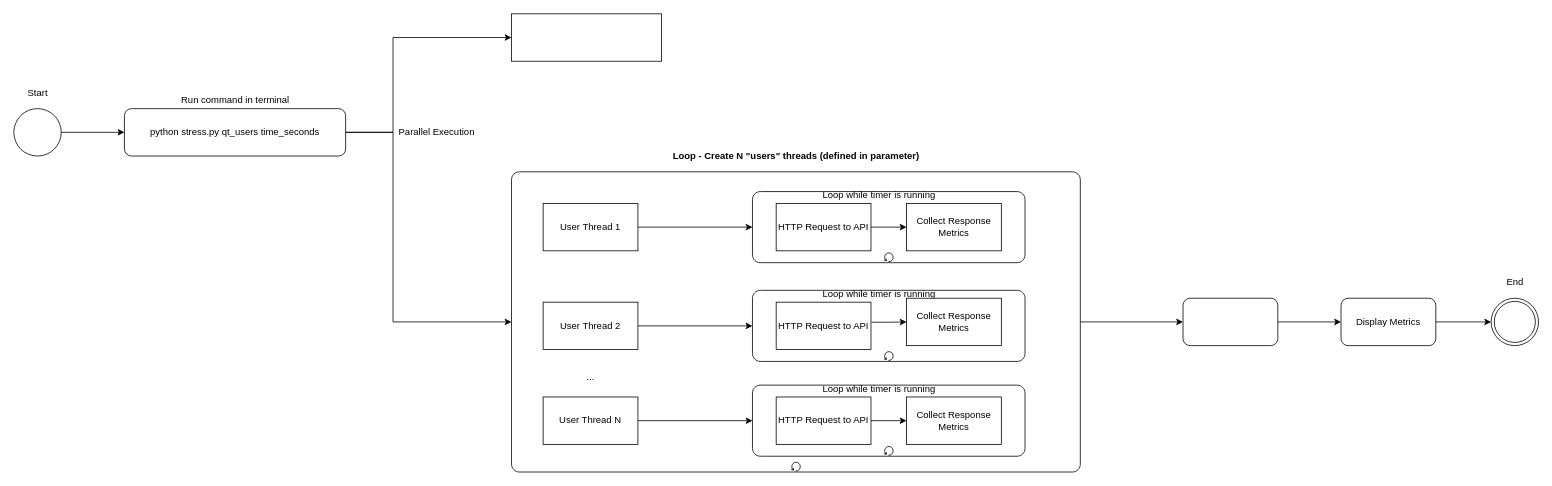
The diagram is 1552 pixels wide and 486 high, and some of its shapes have lost their labels. The centre of each missing label's shape, as x and y in pixels:
"Calculate Response Metrics" belongs at [1230,321].
"Start Timer Thread X seconds (defined in parameter)" belongs at [586,37].
